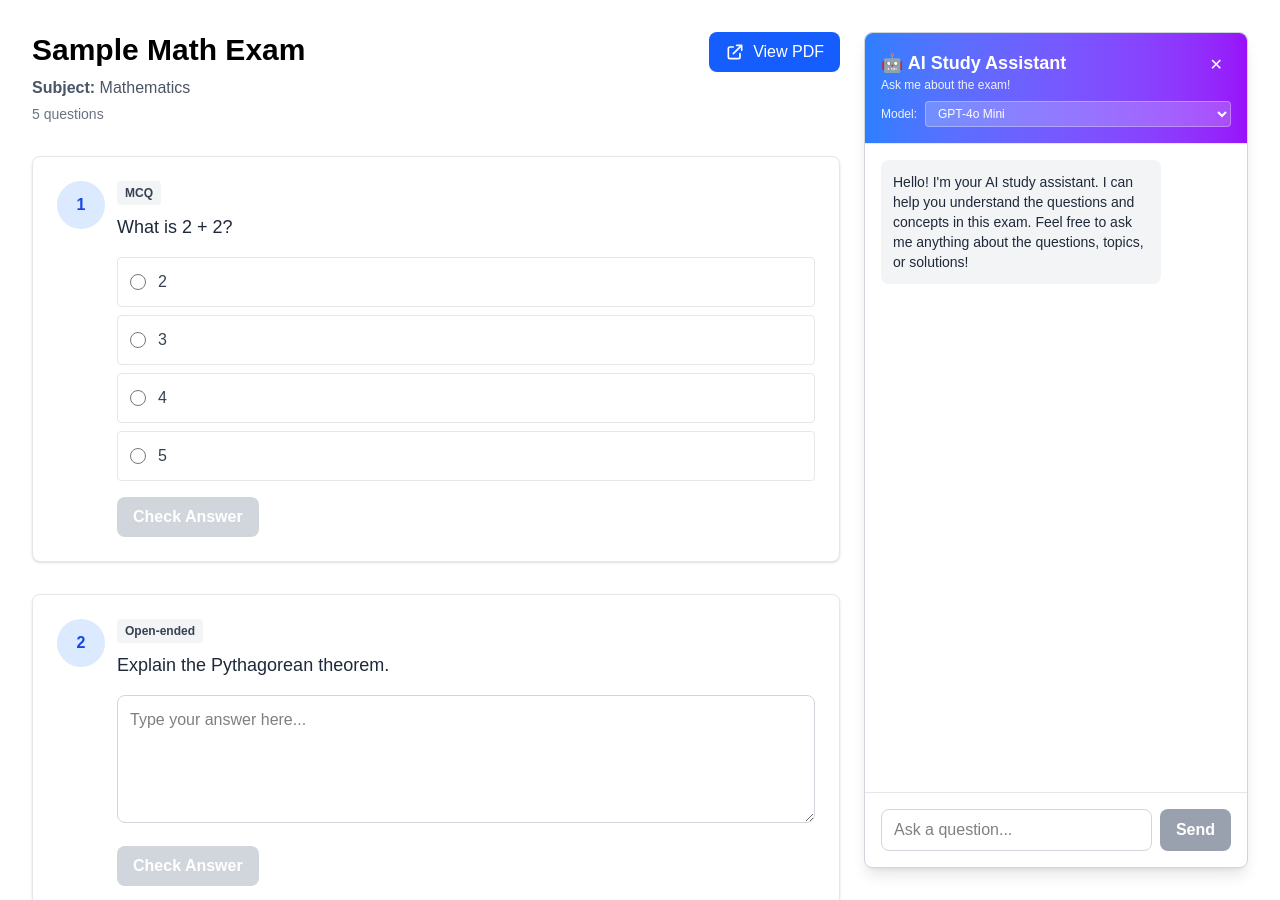
Test: ExamViewer › should highlight wrong MCQ answer in red and correct answer in green
The width and height of the screenshot is (1280, 900).
Check: the text "What is 2 + 2?" is shown, box [117, 217, 233, 237]
Click the radio button labelled "3": coordinates (138, 340) [130, 332, 146, 348]
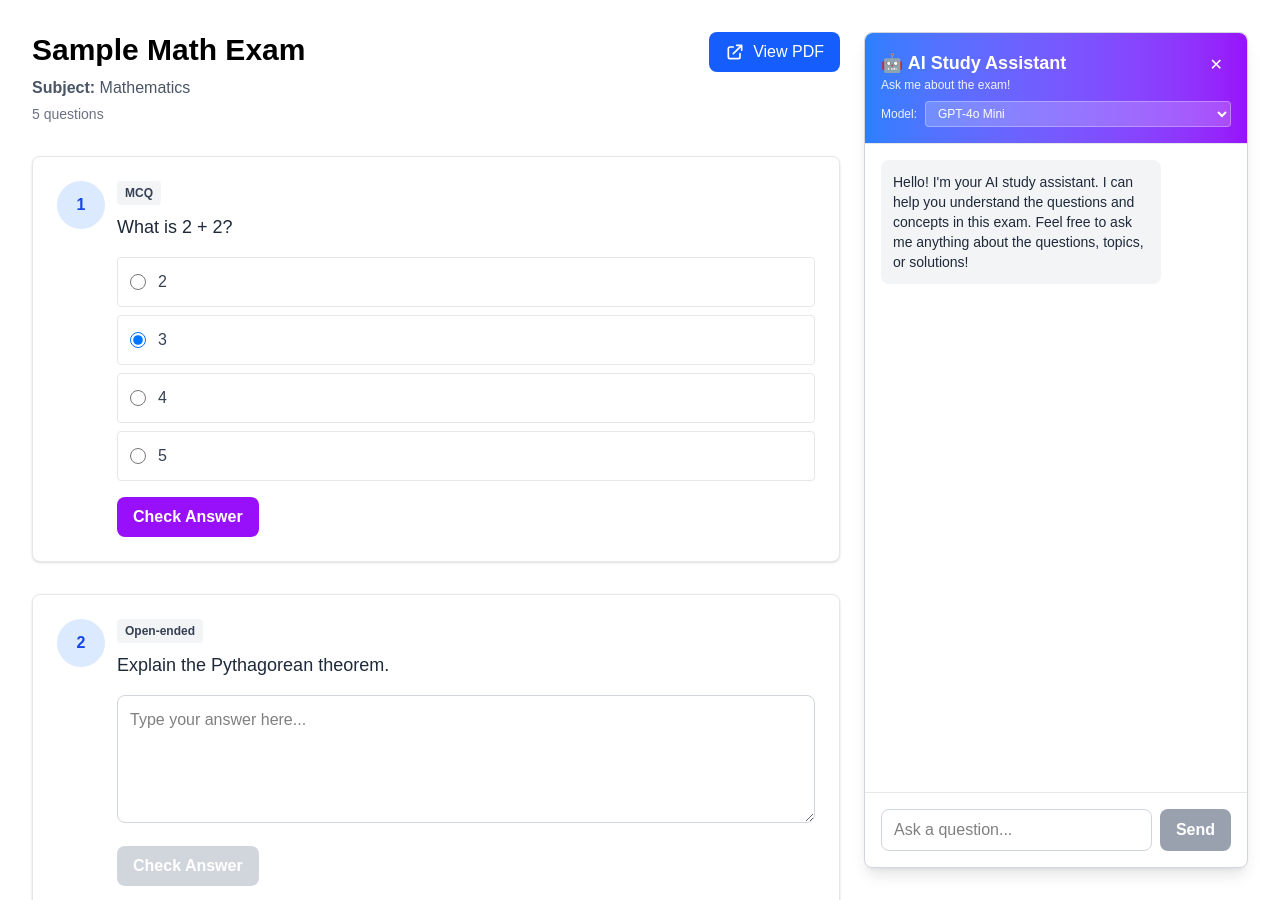
Note: Click Check Answer
Click the button with test id "check-answer-1": coordinates (188, 517) [117, 497, 259, 537]
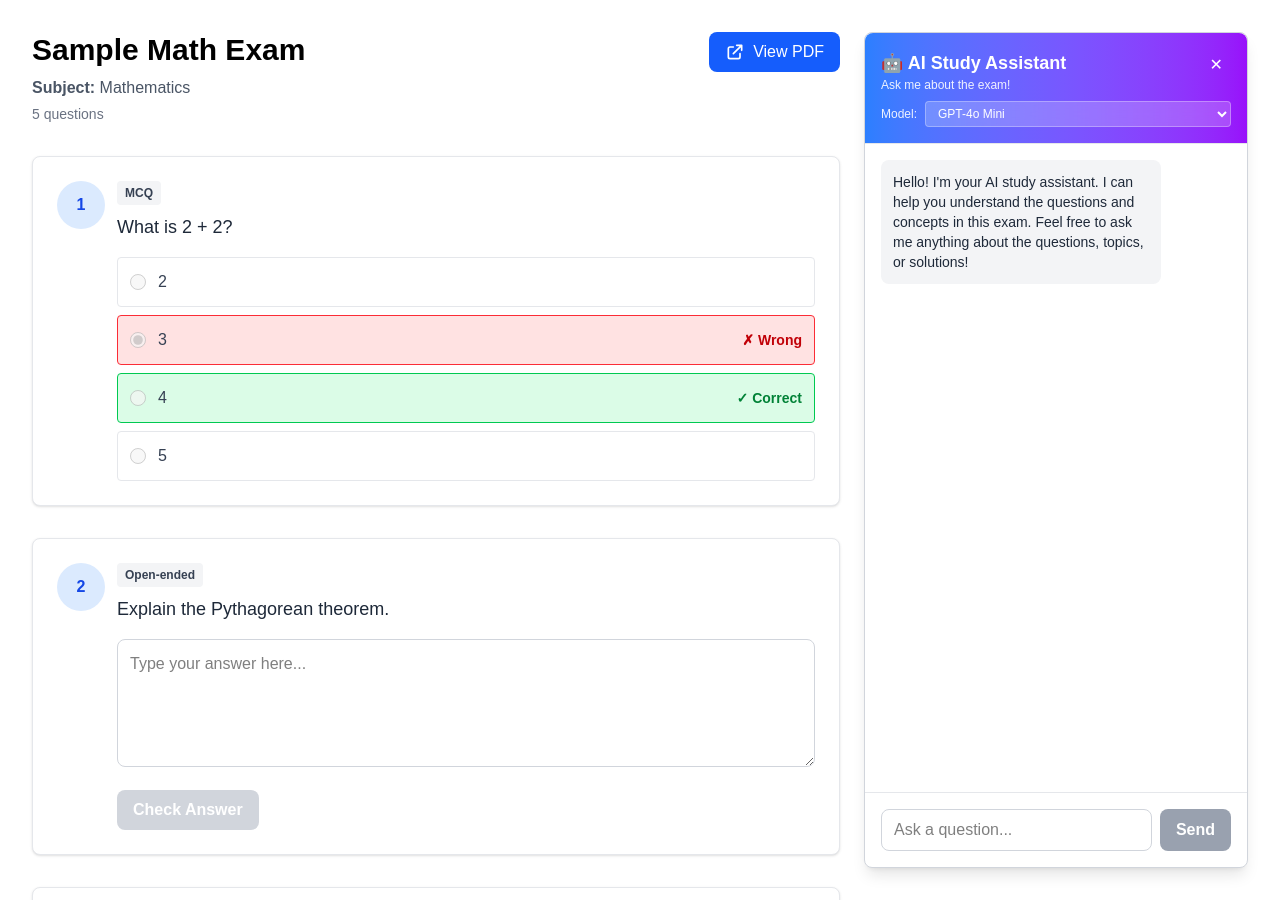
Check: the text "✗ Wrong" is shown, box [742, 330, 802, 350]
Check: the text "✓ Correct" is shown, box [737, 388, 802, 408]
